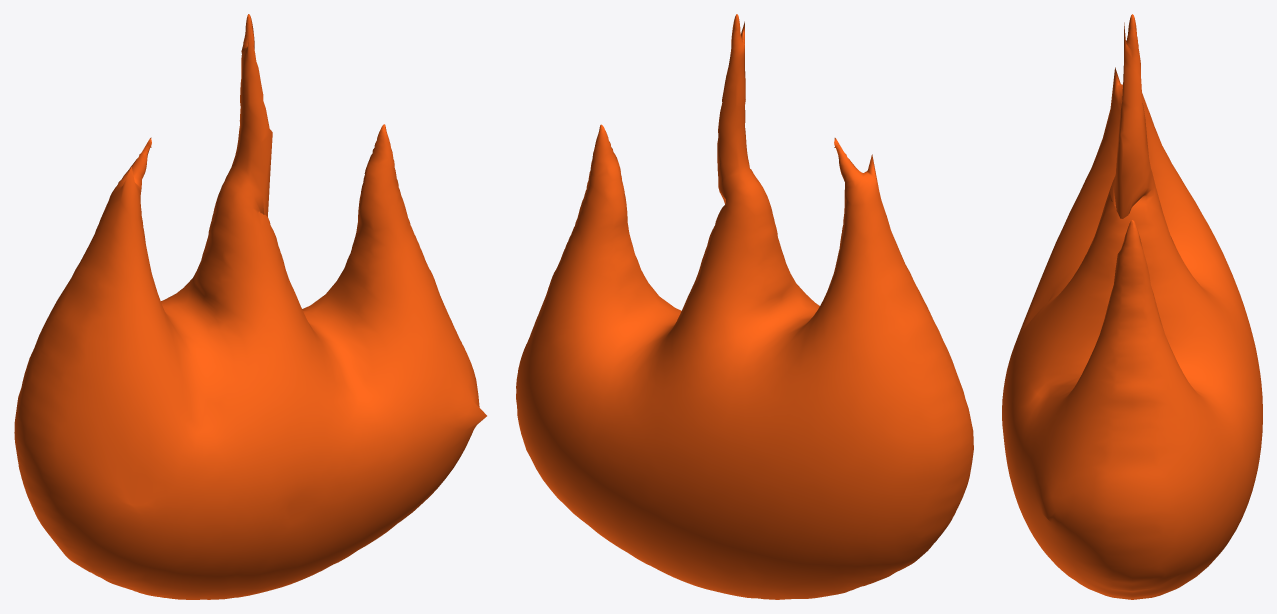
Rendered from fire.glb.
The picture shows the model from 3 angles, left to right: view 1: azimuth 30°, elevation 25°; view 2: azimuth 150°, elevation 25°; view 3: azimuth 270°, elevation 25°; orthographic projection.
Visible parts, largest first — view 1: Mesh_0; view 2: Mesh_0; view 3: Mesh_0.
Boxes of the visible parts, <box> form: Mesh_0: <box>14,14,486,599</box>; Mesh_0: <box>516,14,973,599</box>; Mesh_0: <box>1002,14,1262,599</box>.
Bounding box in the file's own units: 4.75 × 5.91 × 2.5.
